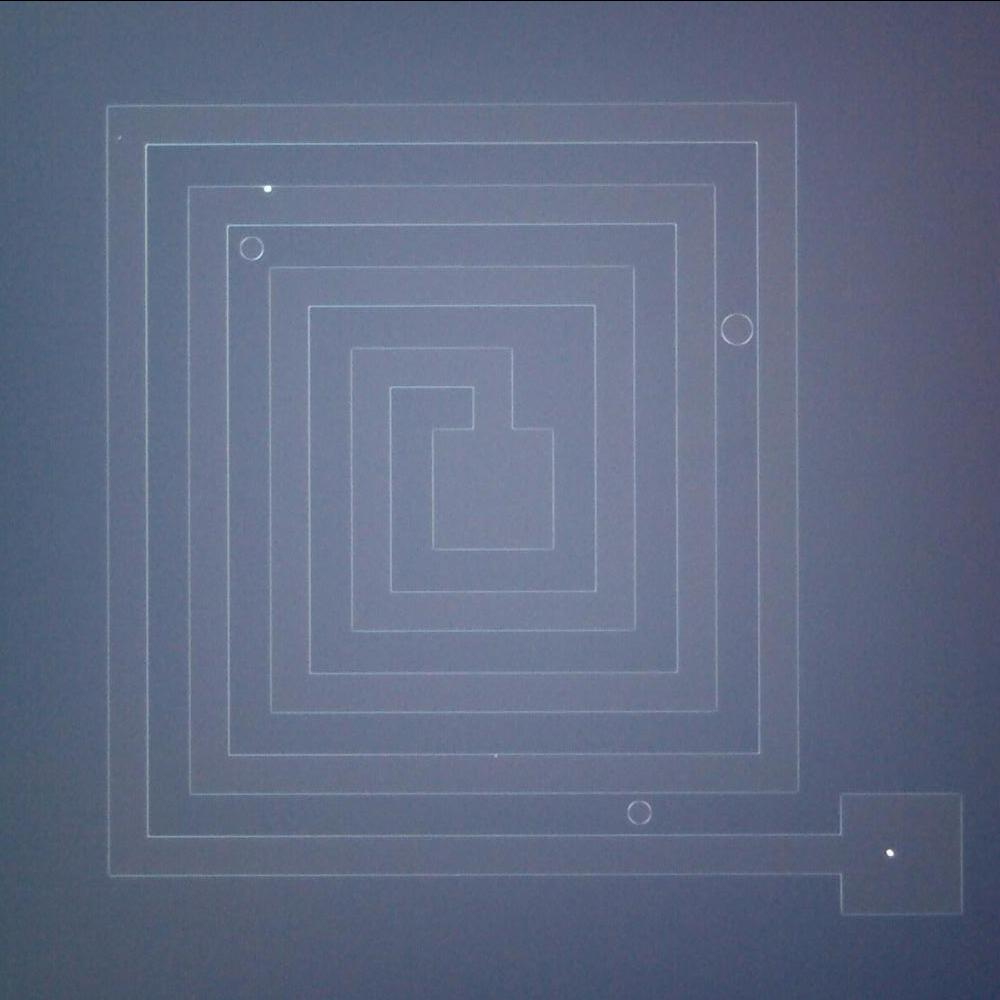circle: (719, 306, 756, 352), (621, 797, 660, 828), (237, 230, 266, 263)
spot: (878, 840, 903, 865), (257, 179, 278, 200)
